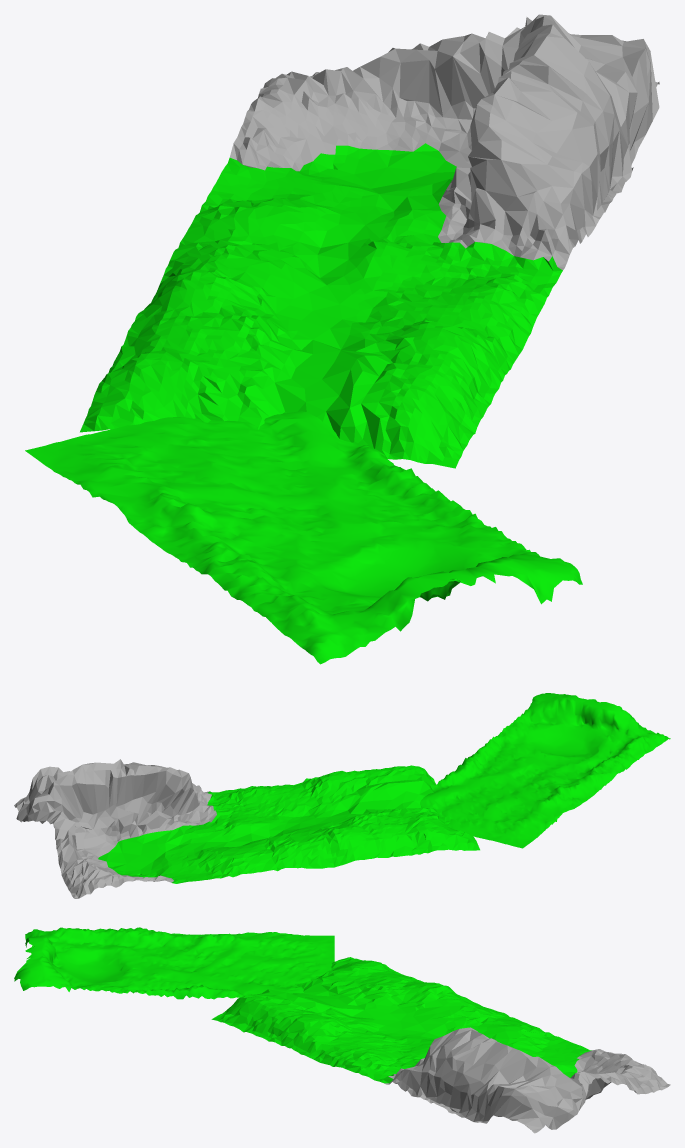
File: terrain shed and start.fbx
3 views of the same model, one above another, from view 1: azimuth 30°, elevation 25°; view 2: azimuth 150°, elevation 25°; view 3: azimuth 270°, elevation 25° (orthographic). The views are drawn at different scales.
Visible parts, largest first — view 1: pPlane4, pPlane6; view 2: pPlane4, pPlane6; view 3: pPlane4, pPlane6.
Part boxes in pixels (bbox=[...]): pPlane4: bbox=[80, 14, 659, 468]; pPlane6: bbox=[25, 411, 582, 664]; pPlane4: bbox=[14, 759, 479, 898]; pPlane6: bbox=[420, 693, 670, 848]; pPlane4: bbox=[211, 957, 670, 1133]; pPlane6: bbox=[14, 927, 334, 999].
Size of the model in its own units: 378 by 62.13 by 496.
